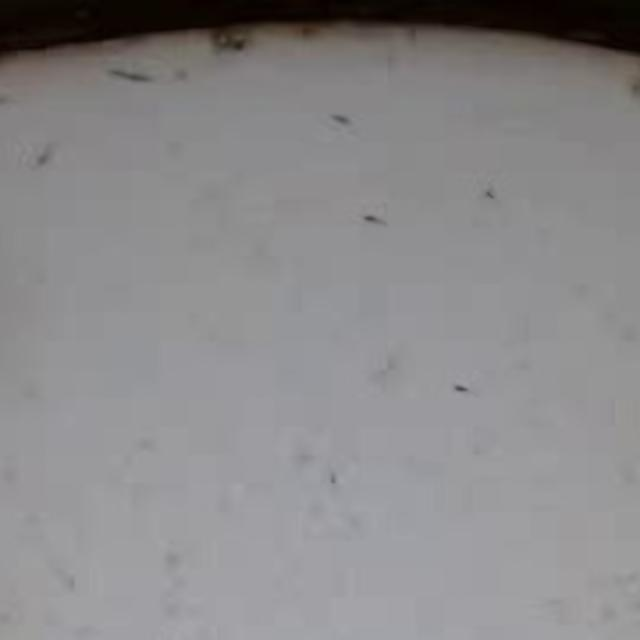shrimp-seed: (351, 206, 410, 243), (23, 130, 64, 178), (444, 370, 492, 408), (316, 446, 348, 502), (316, 99, 368, 129), (473, 176, 512, 215)
